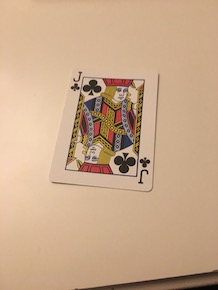JackOfClubs: (45, 63, 162, 194)
